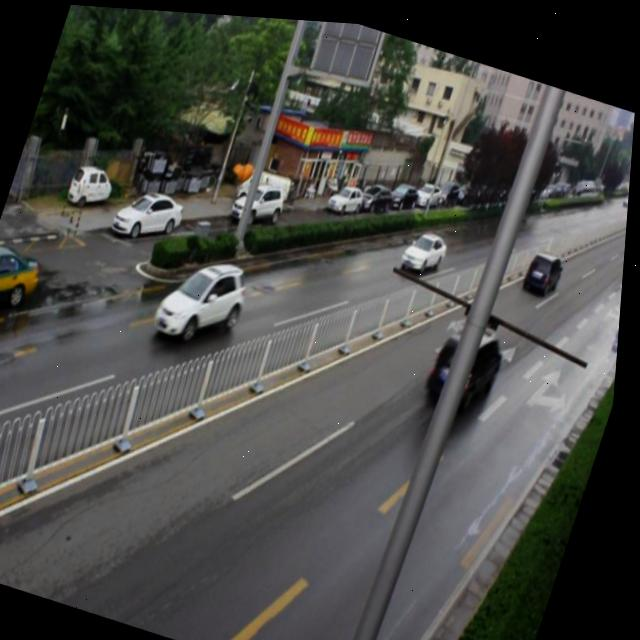car: (151, 241, 259, 356), (397, 218, 453, 277)
truck: (424, 304, 514, 414), (522, 241, 568, 288)
